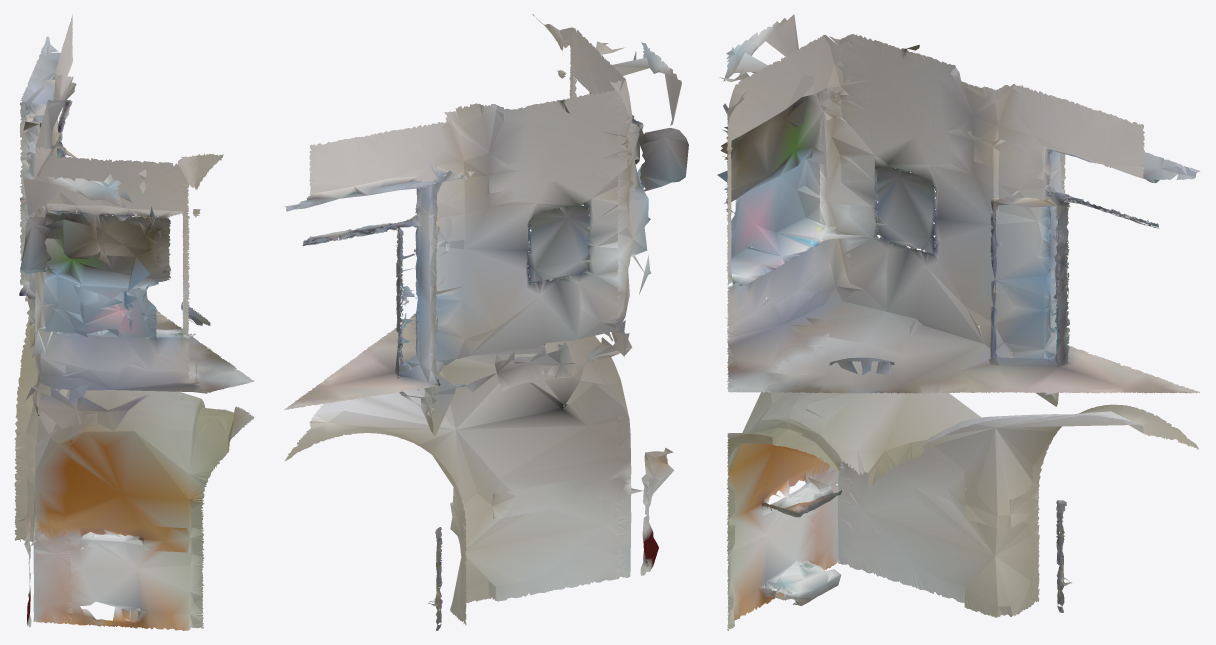
3 views of the same model, side by side, from view 1: azimuth 30°, elevation 25°; view 2: azimuth 150°, elevation 25°; view 3: azimuth 270°, elevation 25° (orthographic). The views are drawn at different scales.
Size of the model in its own units: 3.5 by 7.5 by 6.15.
